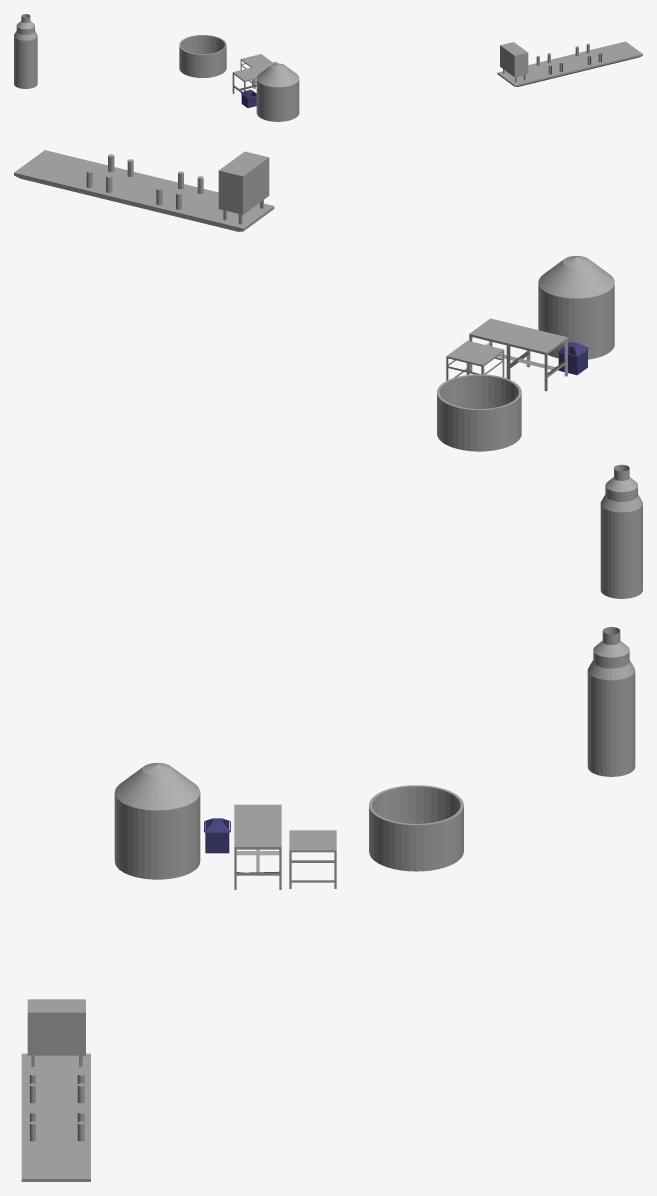
The model's file is 1. ObjIndustrial Material.glb.
3 views of the same model, one above another, from view 1: azimuth 30°, elevation 25°; view 2: azimuth 150°, elevation 25°; view 3: azimuth 270°, elevation 25° (orthographic). The views are drawn at different scales.
Parts seen in each view (by area): view 1: Plano, olla1, olla2, olla3, mesa1, mesa2, basurero; view 2: Plano, olla1, olla2, olla3, mesa1, mesa2, basurero; view 3: Plano, olla1, olla2, olla3, mesa1, mesa2, basurero.
Boxes of the visible parts, <box> form: Plano: <box>497,41,642,86</box>; olla1: <box>256,63,299,121</box>; olla2: <box>179,35,226,77</box>; olla3: <box>14,14,37,88</box>; mesa1: <box>232,61,277,93</box>; mesa2: <box>240,54,272,85</box>; basurero: <box>241,89,256,107</box>; Plano: <box>14,150,274,231</box>; olla1: <box>538,256,614,359</box>; olla2: <box>437,374,521,451</box>; olla3: <box>600,464,642,598</box>; mesa1: <box>469,318,567,391</box>; mesa2: <box>446,340,504,380</box>; basurero: <box>557,342,589,375</box>; Plano: <box>21,999,90,1181</box>; olla1: <box>114,762,200,879</box>; olla2: <box>369,785,463,871</box>; olla3: <box>587,627,635,776</box>; mesa1: <box>234,804,281,889</box>; mesa2: <box>289,830,336,888</box>; basurero: <box>204,818,230,853</box>.
Size of the model in its own units: 46.72 by 6.41 by 25.85.
